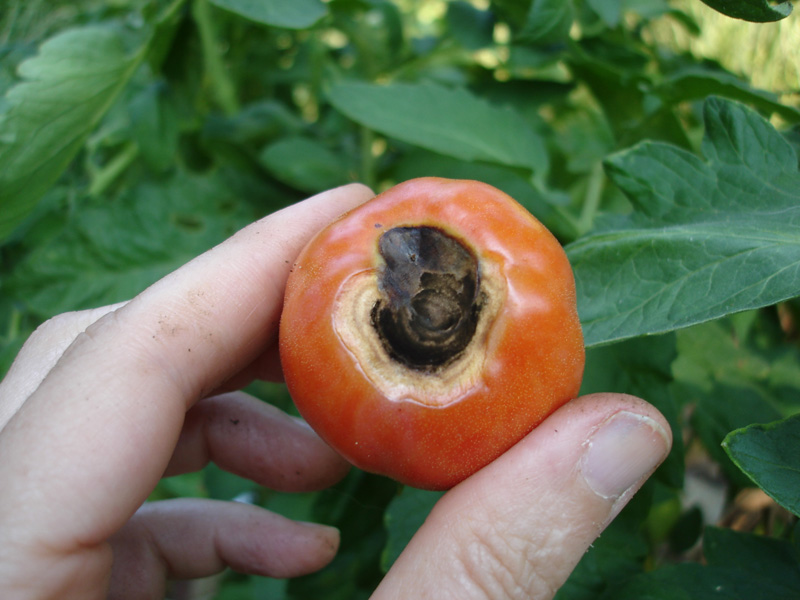blossom_rotw: (335, 203, 562, 455)
